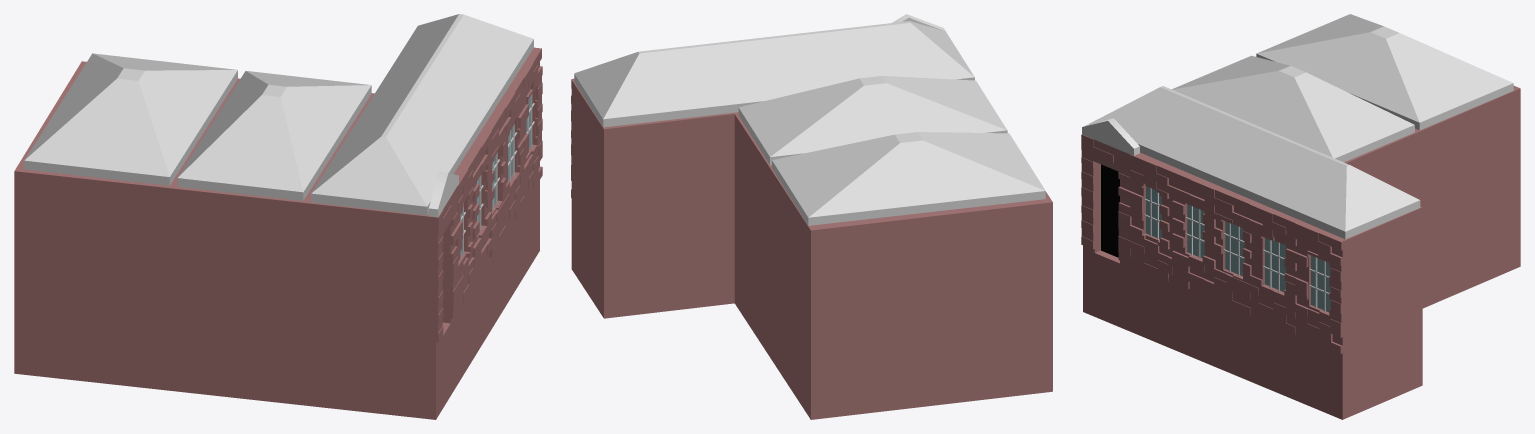
Rendered from mcd_house.fbx.
3 renders of one model, left to right at view 1: azimuth 30°, elevation 25°; view 2: azimuth 150°, elevation 25°; view 3: azimuth 270°, elevation 25°, orthographic. The views are drawn at different scales.
Visible parts, largest first — view 1: pCube54; view 2: pCube54; view 3: pCube54.
Boxes of the visible parts, left/top/right/bottom form: pCube54: left=14, top=14, right=542, bottom=419; pCube54: left=571, top=14, right=1052, bottom=419; pCube54: left=1081, top=14, right=1520, bottom=419.
Size of the model in its own units: 62.59 by 28.93 by 51.83.
